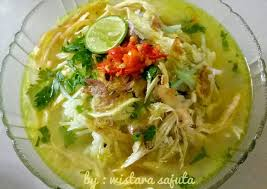soto: (10, 1, 262, 189)
